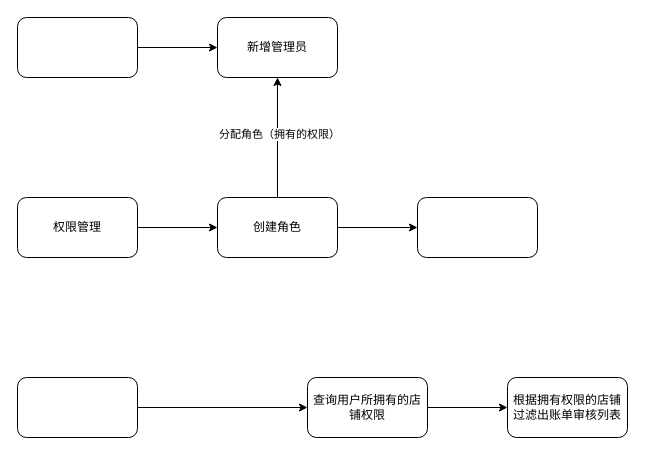
This 645x455 diagram has some shape labels left out. Here are the shapes that lost their labels. From the top down, the centre of each, then its label:
At (77,47): "员工管理".
At (477,227): "分配菜单权限（接口权限、地区权限）".
At (77,407): "用户(管理员)id".
